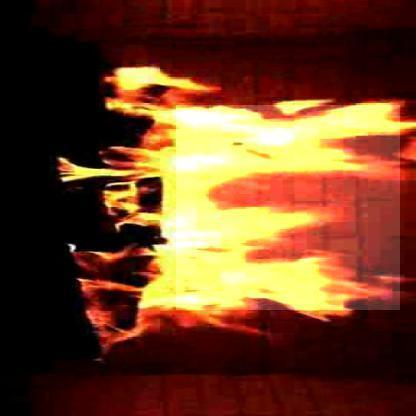Fire: (51, 57, 416, 352)
